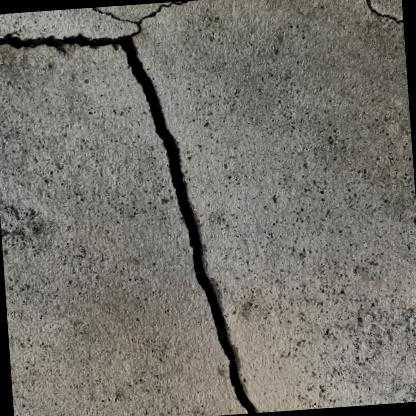crack: (0, 30, 264, 414), (87, 1, 193, 30)
